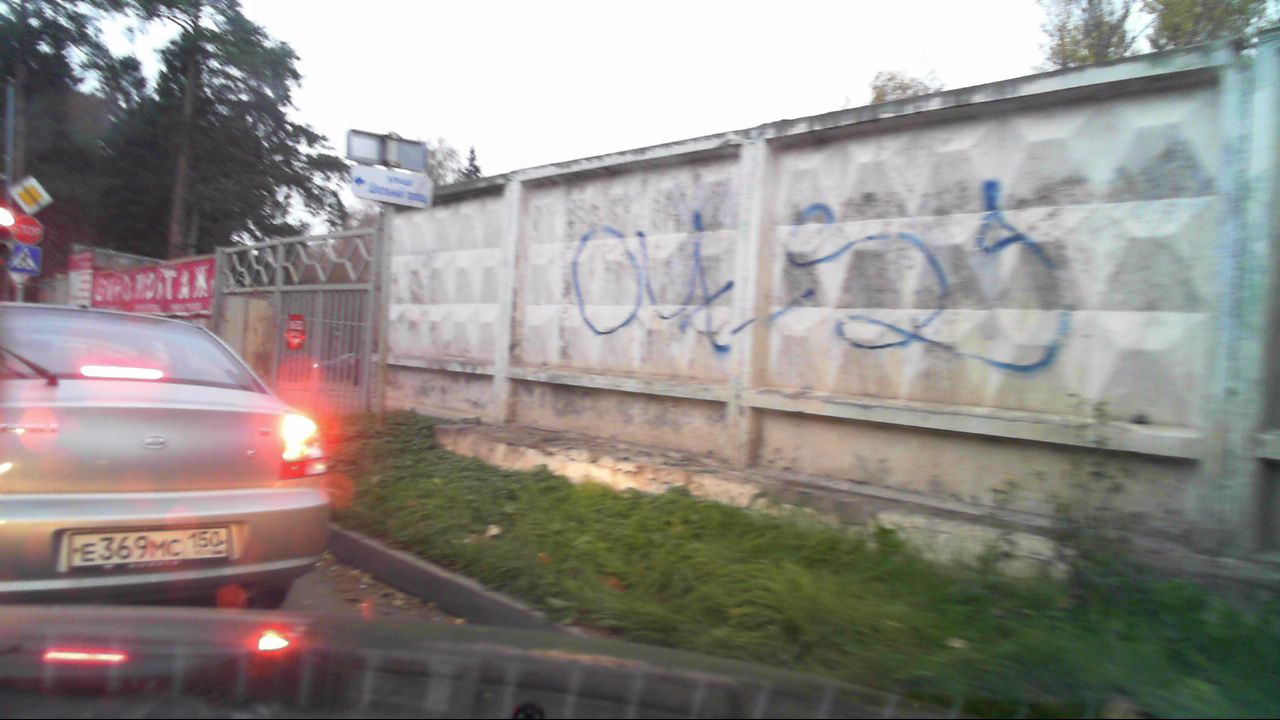main road: (9, 174, 52, 217)
